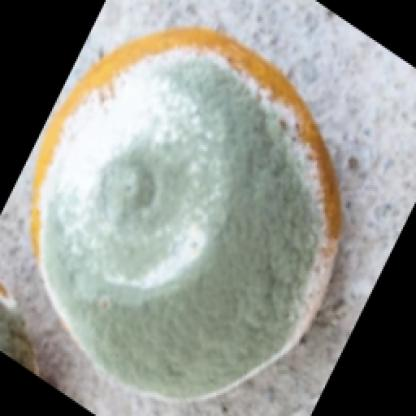rotten: (35, 29, 338, 406)
